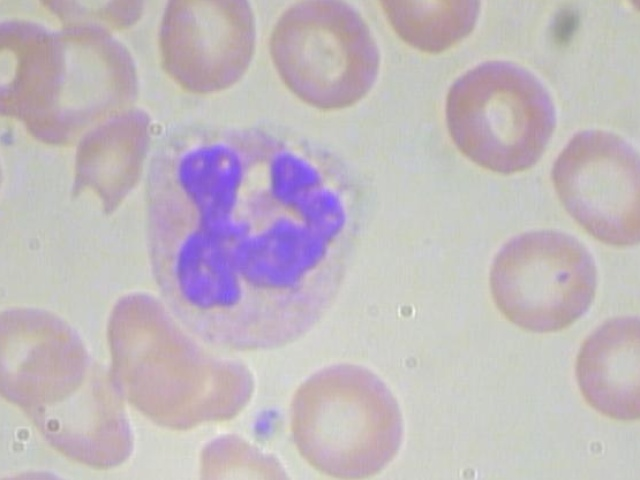Platelets: (245, 400, 281, 446)
RBC: (272, 353, 409, 477), (258, 0, 398, 116), (479, 220, 605, 340), (439, 55, 564, 175), (540, 123, 640, 245), (148, 0, 263, 97), (0, 298, 92, 407), (569, 305, 640, 428), (369, 0, 483, 58), (24, 0, 158, 42), (0, 109, 5, 233), (0, 0, 21, 21)
WBC: (131, 118, 375, 358)
